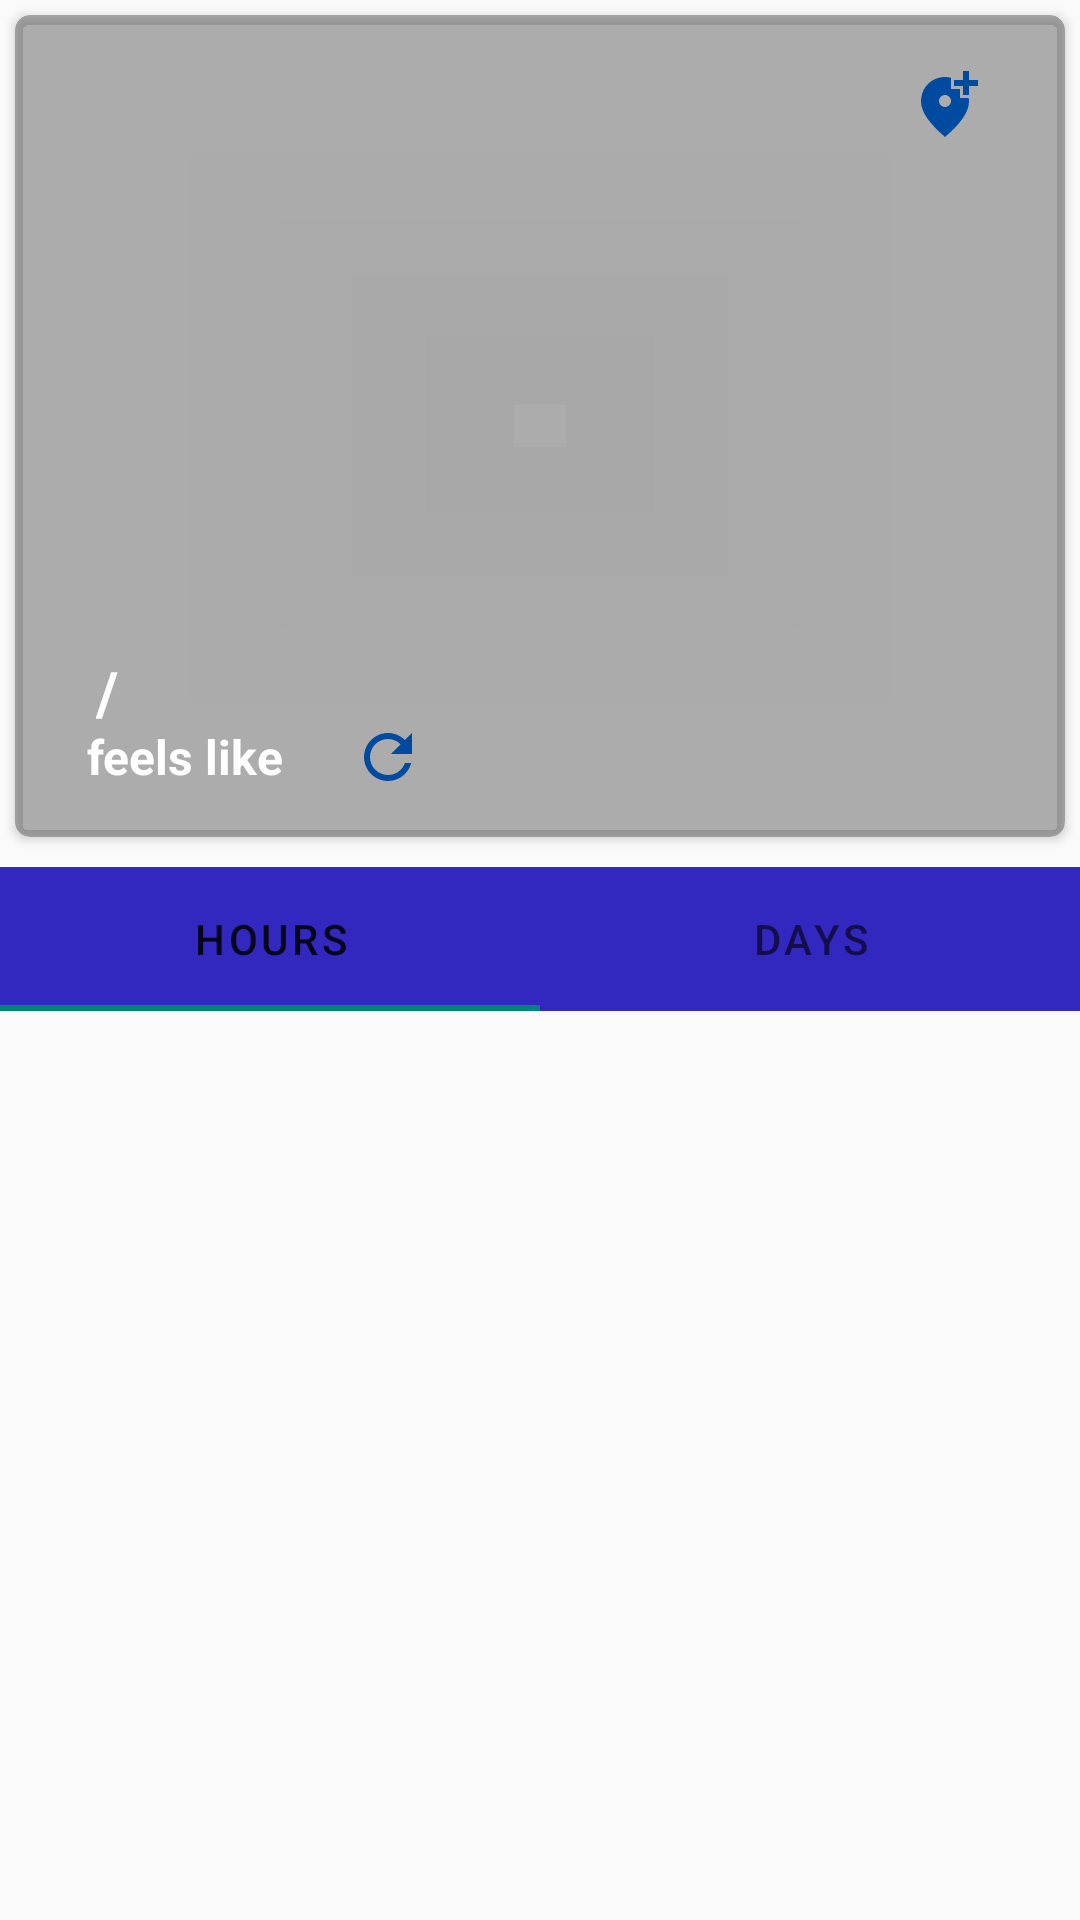

Named icons in this screenshot (1080px x 1920px) and their bounding boxes, (x1, y1, x2, y2):
choose location: (921, 71, 978, 137)
refresh the page: (364, 733, 412, 781)
